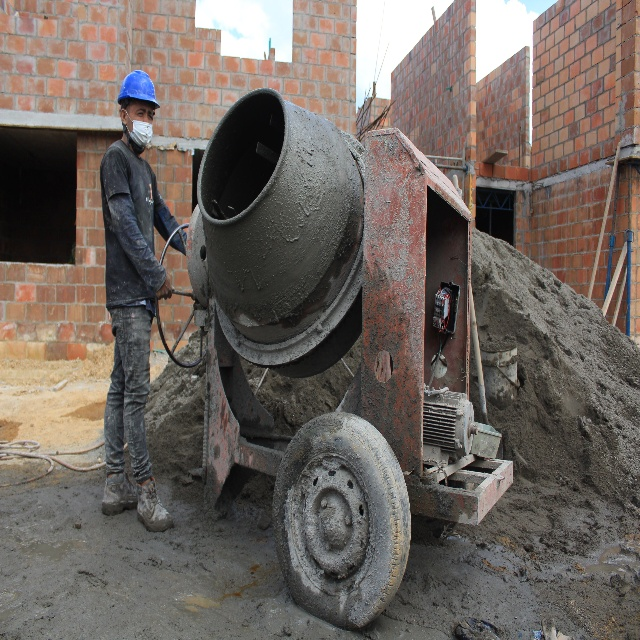Mascara: (131, 120, 153, 147)
Sin_guantes: (154, 272, 175, 300)
